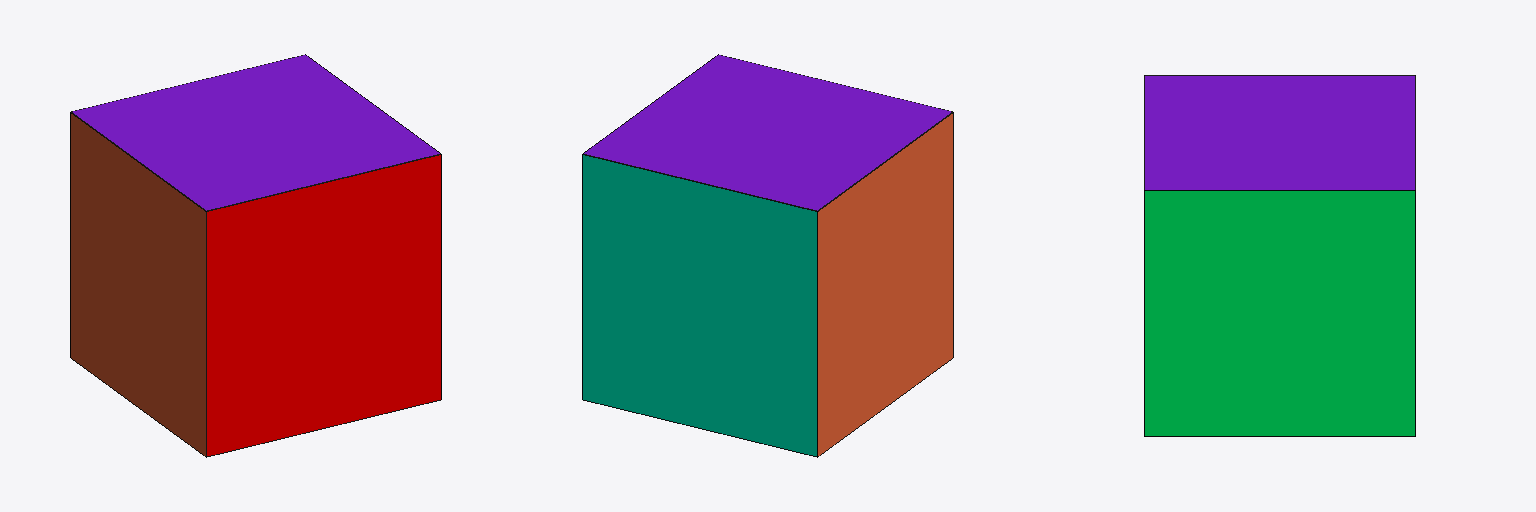
The picture shows the model from 3 angles: view 1: azimuth 30°, elevation 25°; view 2: azimuth 150°, elevation 25°; view 3: azimuth 270°, elevation 25°; orthographic projection.
Visible parts, largest first — view 1: Cube; view 2: Cube; view 3: Cube.
Boxes of the visible parts, x1,y1,x2,y2 form: Cube: [70, 54, 441, 457]; Cube: [582, 54, 953, 457]; Cube: [1144, 75, 1415, 436].
Size of the model in its own units: 1 by 1 by 1.
1 materials, 1 textured.